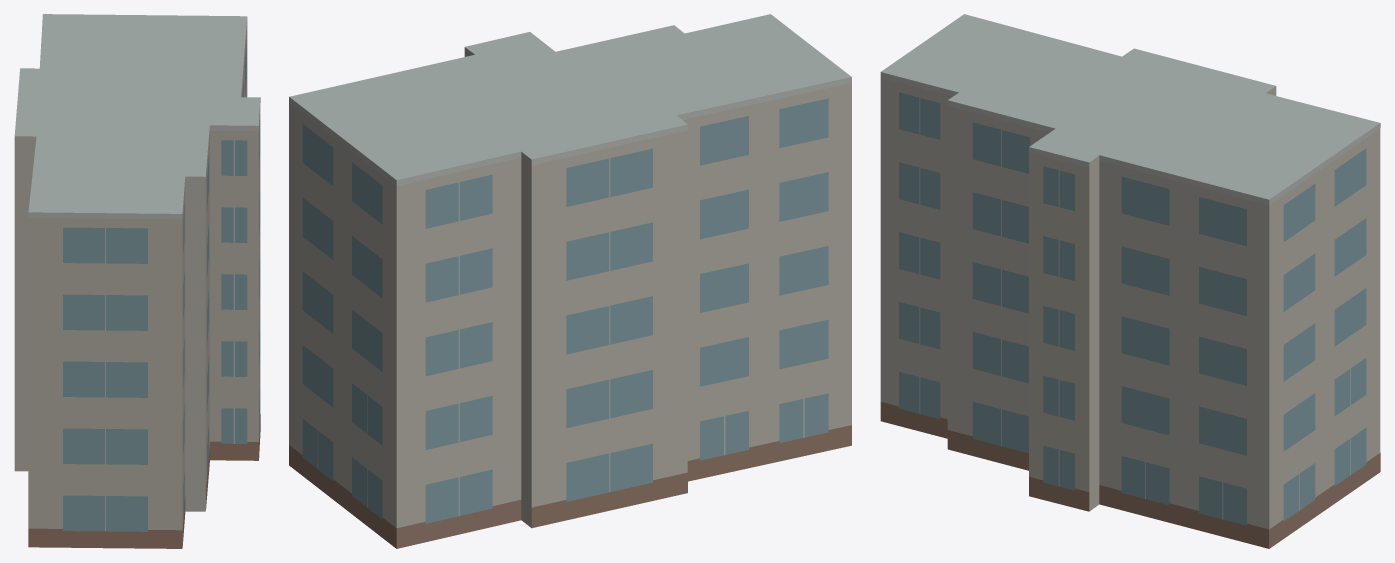
File: survey-upis-32665155.glb
3 renders of one model, left to right at view 1: azimuth 30°, elevation 25°; view 2: azimuth 150°, elevation 25°; view 3: azimuth 270°, elevation 25°, orthographic. The views are drawn at different scales.
Parts seen in each view (by area): view 1: survey-upis-32665155.tmp; view 2: survey-upis-32665155.tmp; view 3: survey-upis-32665155.tmp.
Part boxes in pixels (x1,y1,x2,y2): survey-upis-32665155.tmp: (14,14,260,548); survey-upis-32665155.tmp: (289,14,851,548); survey-upis-32665155.tmp: (880,14,1380,548).
Bounding box in the file's own units: 17.35 × 15.2 × 19.73.
